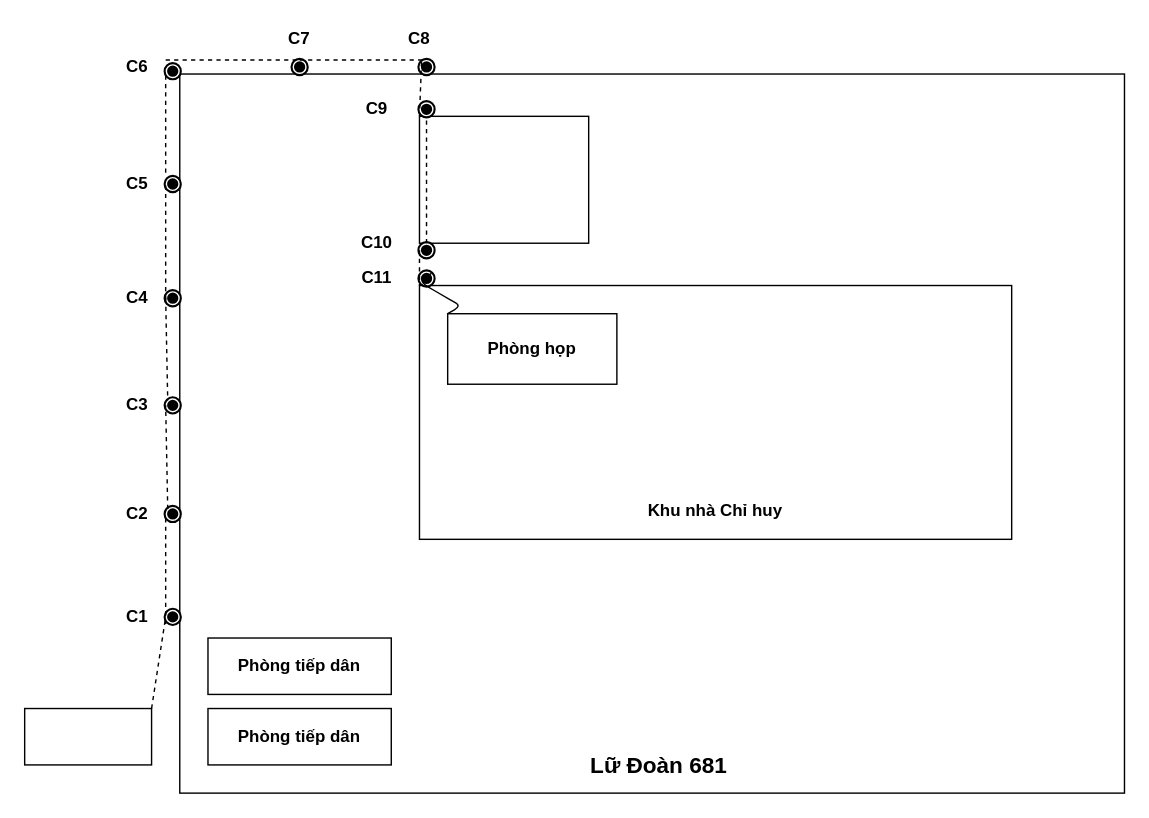
This 1149x818 diagram has some shape labels left out. The shapes that lost their labels are listed below. From the top down, each one's box as (x1, y1, x2, y2) in pixels, then its label:
(418, 115, 589, 243): Sân tennis
(23, 707, 152, 765): BTN077
